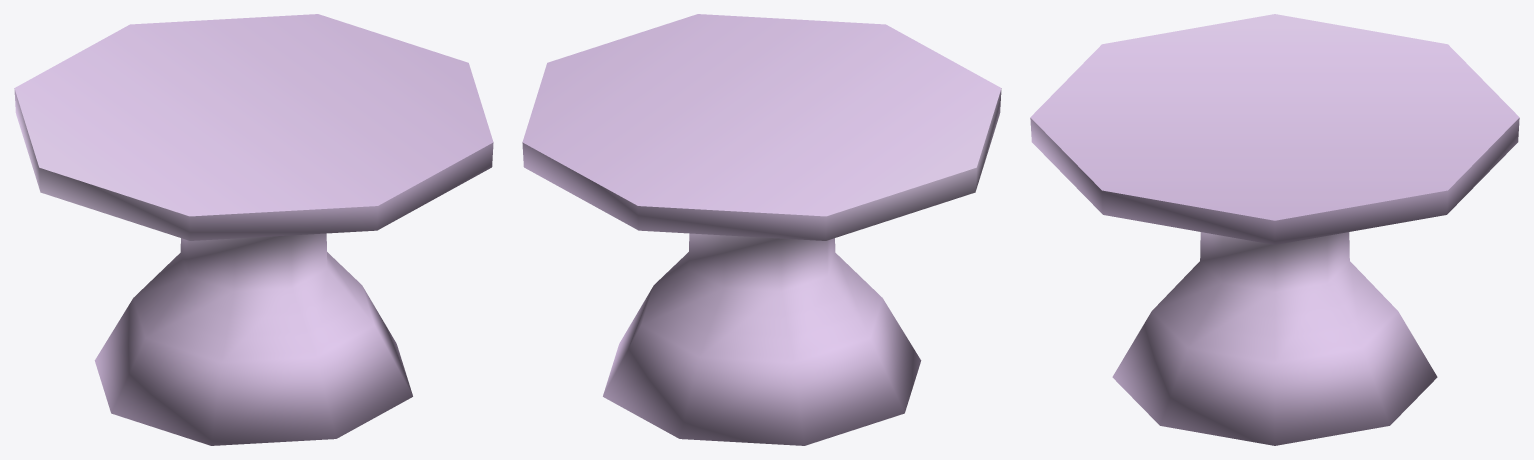
Rendered from Cake_Display_D.FBX.
3 views of the same model, side by side, from view 1: azimuth 30°, elevation 25°; view 2: azimuth 150°, elevation 25°; view 3: azimuth 270°, elevation 25° (orthographic).
Visible parts, largest first — view 1: Cake Display; view 2: Cake Display; view 3: Cake Display.
Boxes of the visible parts, <box> form: Cake Display: <box>14,14,493,445</box>; Cake Display: <box>522,14,1001,445</box>; Cake Display: <box>1030,14,1519,445</box>.
Size of the model in its own units: 89.08 by 52.2 by 89.08.
